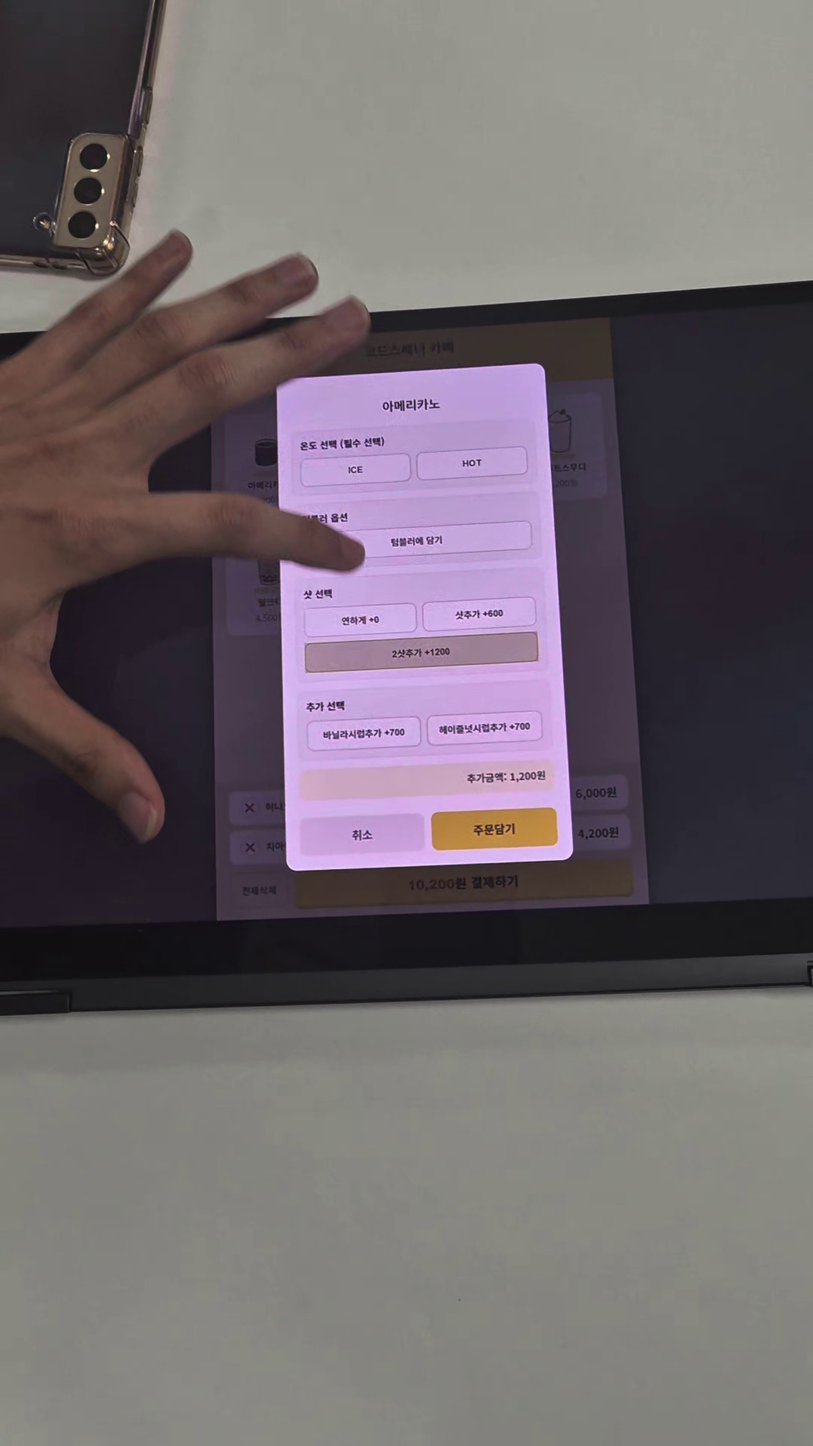action_button: (294, 860, 634, 910), (431, 807, 559, 851), (298, 813, 426, 856), (232, 873, 287, 907)
menu_price: (574, 785, 620, 803), (576, 824, 622, 842)
option_button: (305, 632, 539, 674), (299, 521, 533, 563), (428, 711, 542, 746), (422, 597, 536, 632), (416, 446, 529, 481), (300, 453, 412, 488), (307, 717, 422, 751), (304, 603, 418, 637)
popup_modal: (276, 362, 574, 872)
